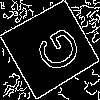G: (25, 24, 85, 82)
